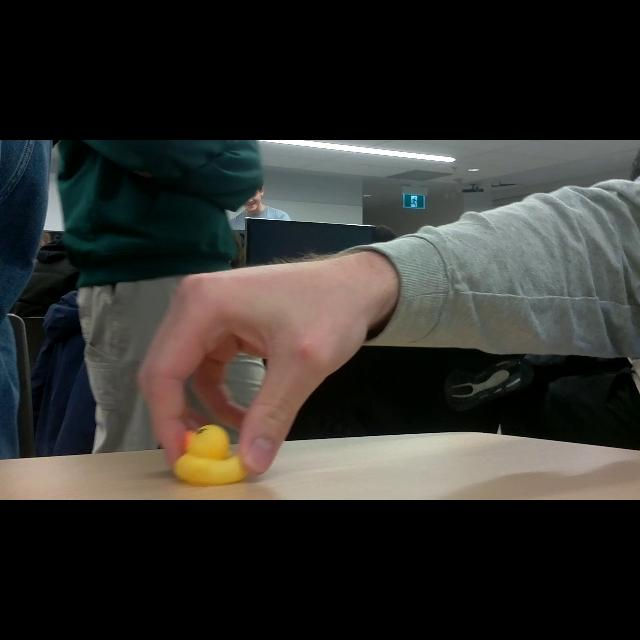duck_regular: (174, 425, 250, 486)
